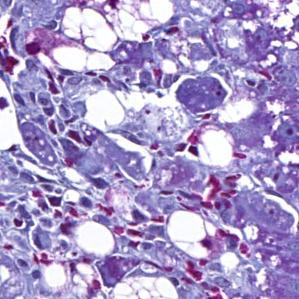ballooning: (92, 2, 178, 46), (164, 207, 224, 264), (59, 5, 118, 56), (109, 268, 181, 297)
